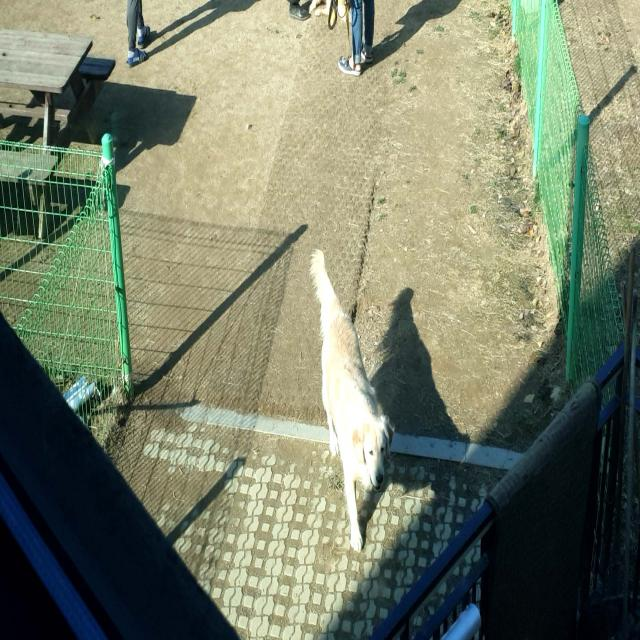Dog: (309, 248, 395, 551)
